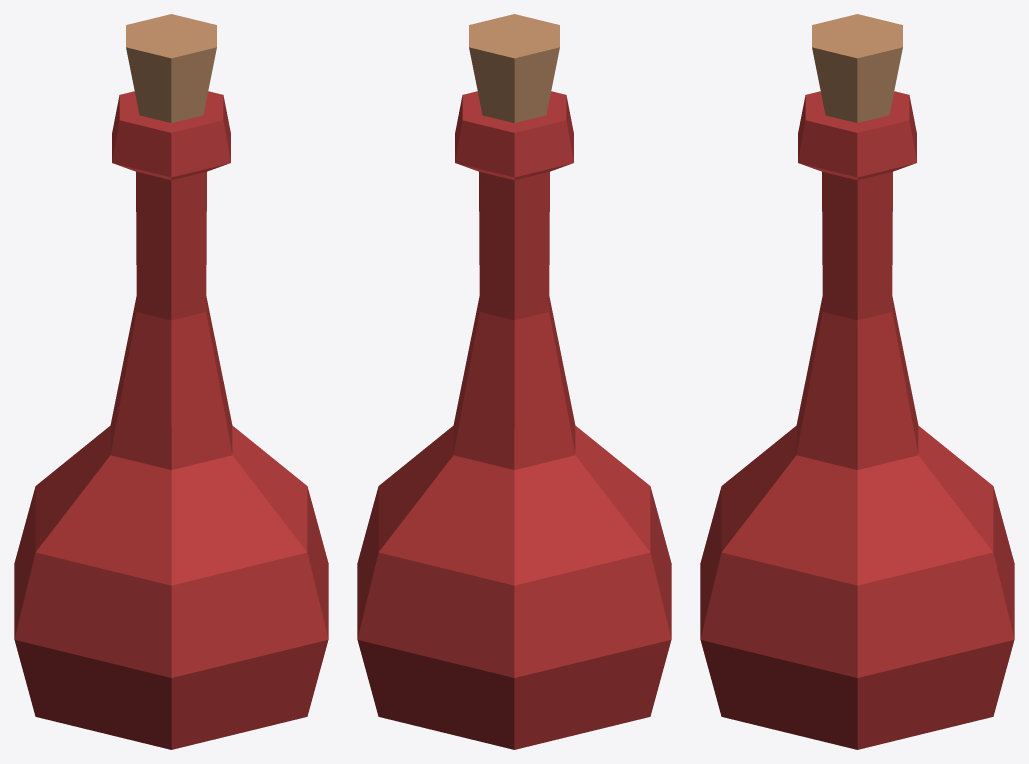
Rendered from tool_potion1.fbx.
3 views of the same model, side by side, from view 1: azimuth 30°, elevation 25°; view 2: azimuth 150°, elevation 25°; view 3: azimuth 270°, elevation 25° (orthographic).
Visible parts, largest first — view 1: pCylinder17; view 2: pCylinder17; view 3: pCylinder17.
Boxes of the visible parts, bbox=[...] form: pCylinder17: bbox=[14, 14, 328, 749]; pCylinder17: bbox=[357, 14, 671, 749]; pCylinder17: bbox=[700, 14, 1014, 749].
Size of the model in its own units: 2.63 by 5.38 by 2.28.
